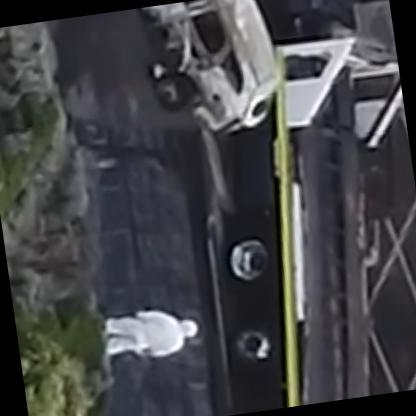Human Body: (94, 294, 202, 370)
